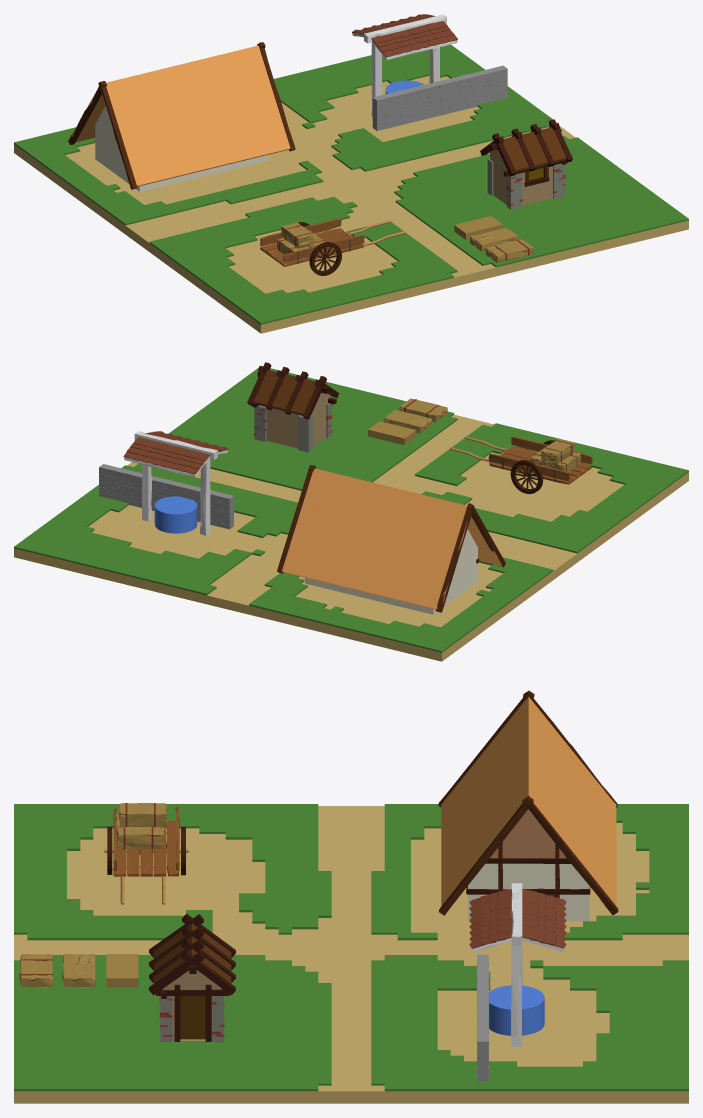
File: parcel3d.glb
3 views of the same model, one above another, from view 1: azimuth 30°, elevation 25°; view 2: azimuth 150°, elevation 25°; view 3: azimuth 270°, elevation 25° (orthographic). The views are drawn at different scales.
Visible parts, largest first — view 1: Pelouse. dessus, Base, Toit ferme, Wall.001, Pelouse.002, Ferme, Toit, Maison, Support.008, Paille.002, Paille, Paille.001 (+7 smaller); view 2: Pelouse. dessus, Base, Toit ferme, Wall.001, Pelouse.002, Ferme, Maison, Toit, Circle, Support.009, Cube.004, Paille (+10 smaller); view 3: Pelouse. dessus, Base, Toit ferme, Pelouse.002, Ferme, Circle, Ferme haut, Wall.001, Toit, Support.007, Support.006, Porte (+8 smaller).
Boxes of the visible parts, box(x1,y1,x2,y2) form: Pelouse. dessus: box(14, 44, 688, 322); Base: box(14, 75, 688, 333); Toit ferme: box(71, 45, 290, 186); Wall.001: box(372, 65, 507, 130); Pelouse.002: box(14, 74, 688, 324); Ferme: box(95, 105, 268, 191); Toit: box(503, 127, 566, 171); Maison: box(490, 149, 553, 205); Support.008: box(98, 82, 137, 189); Paille.002: box(485, 239, 533, 262); Paille: box(454, 216, 502, 239); Paille.001: box(470, 228, 518, 251); Pelouse. dessus: box(14, 366, 688, 650); Base: box(14, 414, 688, 661); Toit ferme: box(282, 468, 502, 609); Wall.001: box(99, 464, 233, 529); Pelouse.002: box(14, 413, 688, 652); Ferme: box(305, 529, 477, 614); Maison: box(259, 392, 329, 448); Toit: box(253, 370, 315, 415); Circle: box(154, 496, 197, 533); Support.009: box(435, 503, 474, 612); Cube.004: box(199, 459, 210, 535); Paille: box(368, 421, 416, 445); Pelouse. dessus: box(14, 804, 688, 1088); Base: box(14, 806, 688, 1103); Toit ferme: box(441, 696, 616, 906); Pelouse.002: box(14, 820, 688, 1091); Ferme: box(468, 863, 589, 921); Circle: box(489, 985, 544, 1035); Ferme haut: box(490, 809, 566, 858); Wall.001: box(477, 954, 488, 1081); Toit: box(154, 923, 231, 983); Support.007: box(522, 796, 618, 915); Support.006: box(439, 796, 533, 915); Porte: box(180, 996, 205, 1039).
Bounding box in the file's own units: 10 × 2.41 × 10.
